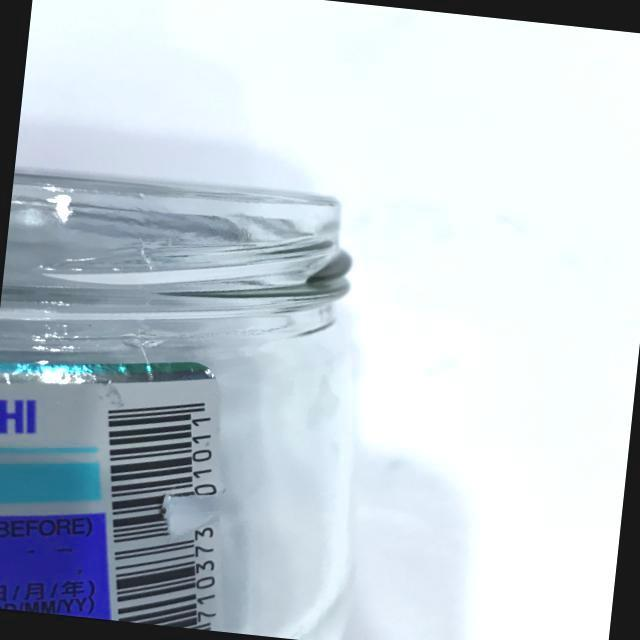glass: (0, 156, 408, 640)
